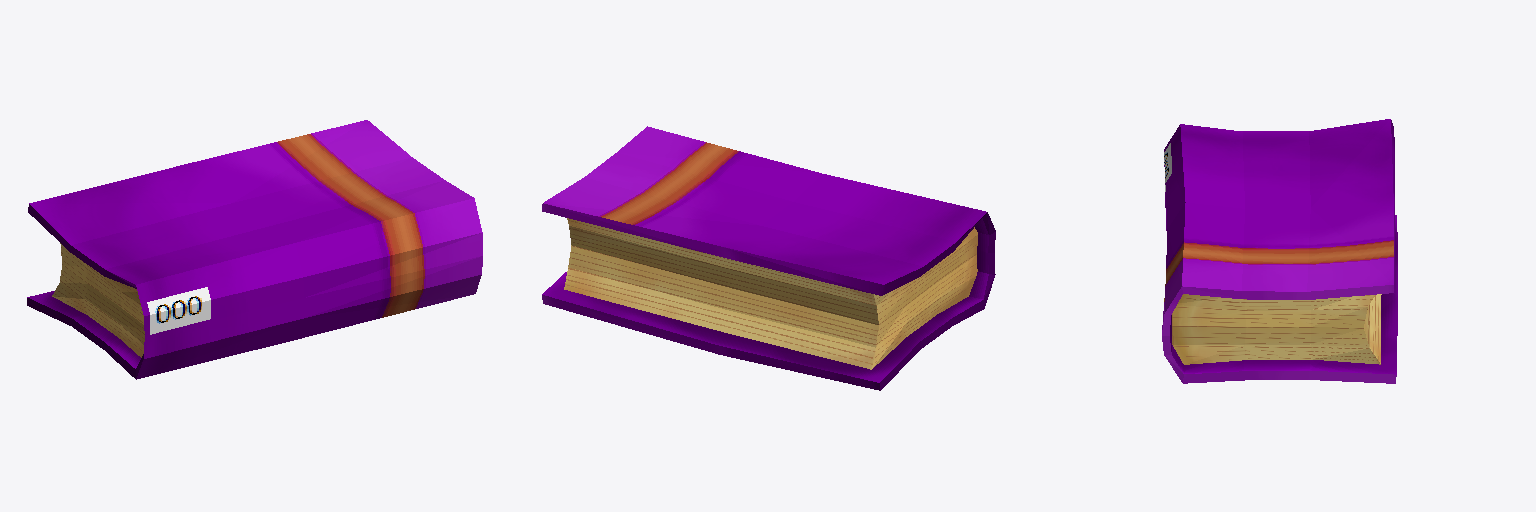
3 views of the same model, side by side, from view 1: azimuth 30°, elevation 25°; view 2: azimuth 150°, elevation 25°; view 3: azimuth 270°, elevation 25° (orthographic).
Parts seen in each view (by area): view 1: Cover.040, Pages.008; view 2: Cover.040, Pages.008; view 3: Cover.040, Pages.008.
Boxes of the visible parts, box(x1,y1,x2,y2) form: Cover.040: box(27, 120, 482, 379); Pages.008: box(52, 243, 144, 357); Cover.040: box(542, 126, 995, 390); Pages.008: box(564, 218, 977, 369); Cover.040: box(1162, 119, 1397, 383); Pages.008: box(1172, 294, 1381, 364).
Bounding box in the file's own units: 9.81 × 2.93 × 5.85.
2 materials, 2 textured.